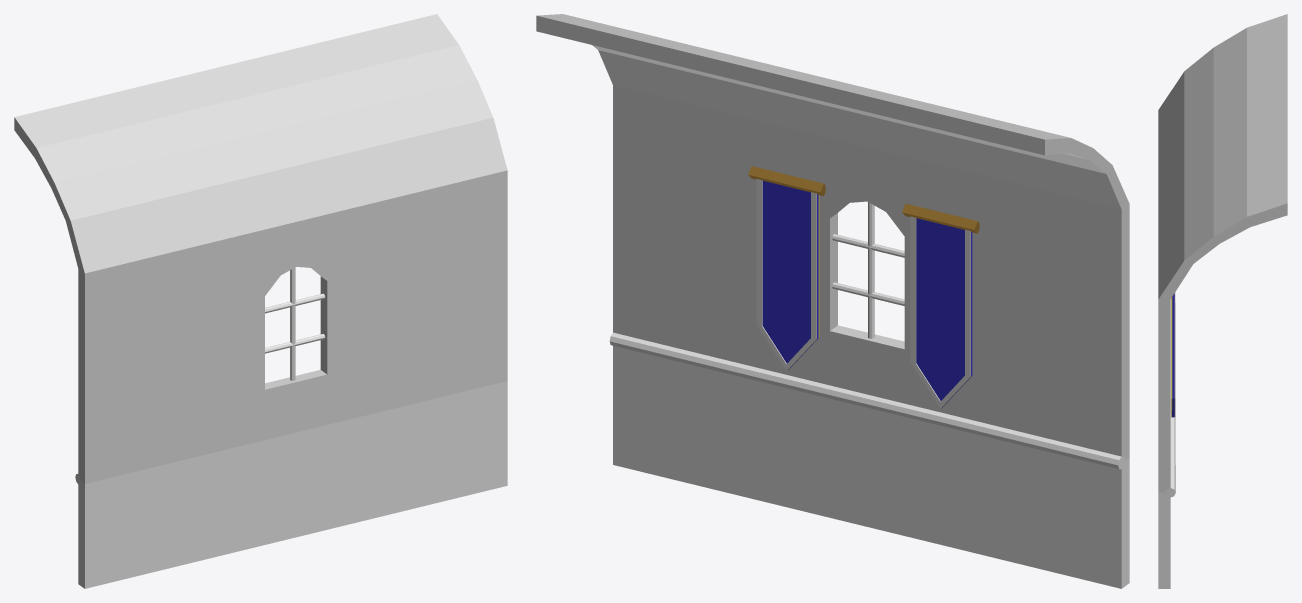
File: BossRoomWallWithWindow.fbx
3 views of the same model, side by side, from view 1: azimuth 30°, elevation 25°; view 2: azimuth 150°, elevation 25°; view 3: azimuth 270°, elevation 25° (orthographic). The views are drawn at different scales.
Visible parts, largest first — view 1: Cube.093, Cube.094, Cylinder.024; view 2: Cube.093, Cube.094, Cube.088, Cube.092, Cylinder.027, Cube.090, Cube.087, Cylinder.026, Cylinder.025, Cylinder.024; view 3: Cube.093, Cube.094, Cylinder.027, Cube.092, Cube.087, Cube.091.
Boxes of the visible parts, box(x1,y1,x2,y2) form: Cube.093: box(14, 14, 507, 483); Cube.094: box(78, 381, 507, 588); Cylinder.024: box(290, 267, 295, 380); Cube.093: box(536, 14, 1129, 459); Cube.094: box(613, 345, 1129, 588); Cube.088: box(916, 218, 972, 408); Cube.092: box(762, 181, 818, 369); Cylinder.027: box(609, 332, 1124, 469); Cube.090: box(910, 216, 970, 408); Cube.087: box(756, 178, 816, 371); Cylinder.026: box(748, 166, 825, 195); Cylinder.025: box(902, 203, 979, 233); Cylinder.024: box(868, 202, 874, 338); Cube.093: box(1158, 14, 1287, 492); Cube.094: box(1158, 492, 1170, 588); Cylinder.027: box(1165, 299, 1175, 497); Cube.092: box(1172, 293, 1174, 417); Cube.087: box(1174, 292, 1175, 416); Cube.091: box(1171, 297, 1172, 417).
Bounding box in the file's own units: 844 × 802 × 244.
